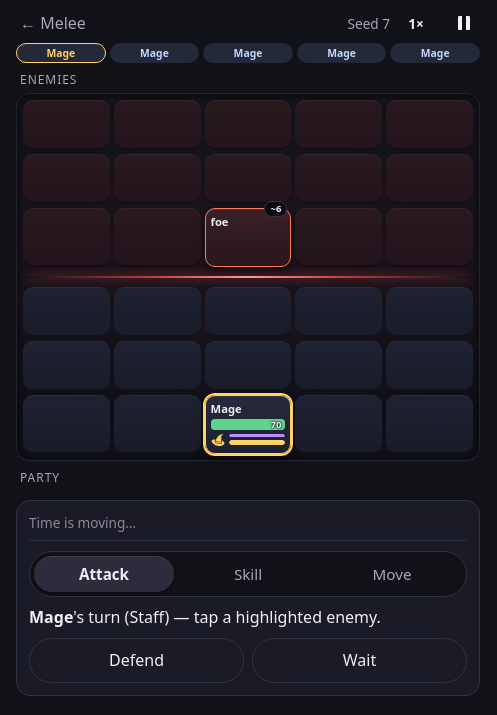
Test: BattleScreen › given the mage asked, when the Move tab opens, then steps to other cells are offered
The width and height of the screenshot is (497, 715).
expect the element named "Action" is shown: met, box [29,551,467,597]
Click the button "Move" at (392, 574), box [322,556,462,592]
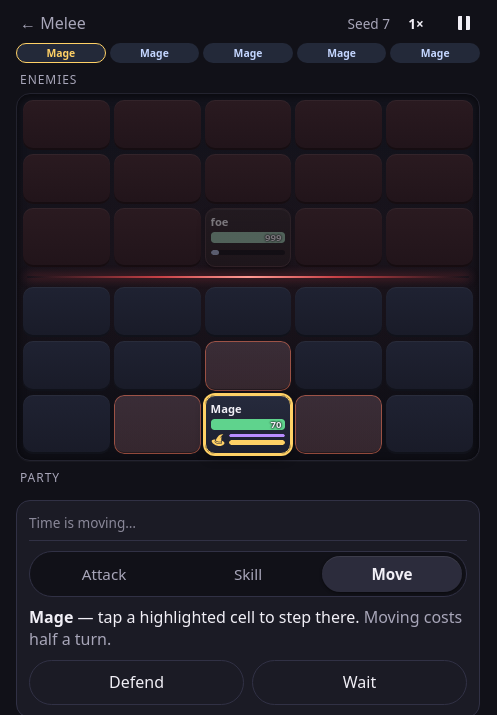
expect the text "tap a highlighted cell to step there" is shown: met, box [73,606,364,628]
expect the cell named "Move to Party column" is shown: met, box [205,341,291,391]
